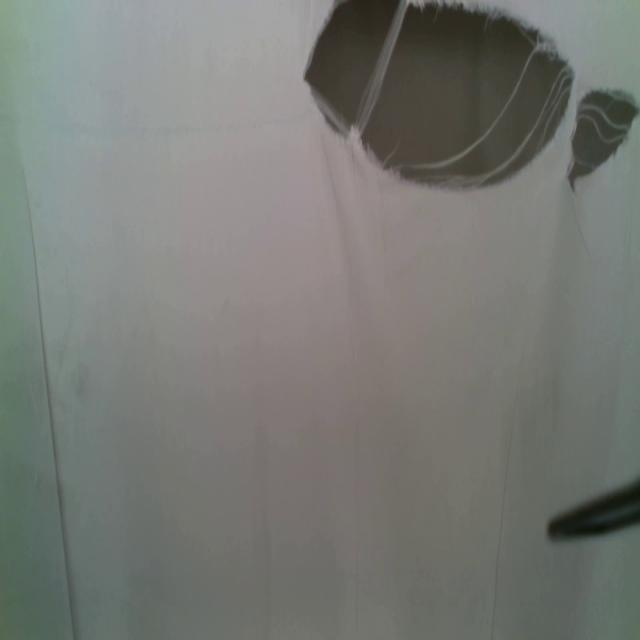crease: (21, 167, 76, 640), (490, 338, 526, 639)
hole: (303, 0, 572, 211), (568, 87, 638, 189)
